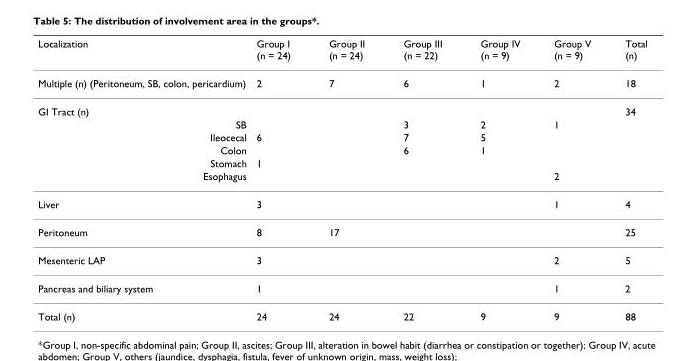table: (37, 37, 646, 321)
table column: (37, 37, 250, 321), (383, 37, 460, 321), (460, 37, 536, 321), (309, 37, 383, 321), (536, 37, 607, 321), (250, 37, 309, 321), (607, 37, 646, 321)
table column header: (37, 37, 646, 68)
table row: (37, 37, 646, 68), (37, 68, 646, 96), (37, 189, 646, 217), (37, 217, 646, 245), (37, 245, 646, 273), (37, 273, 646, 301), (37, 96, 646, 117), (37, 169, 646, 189), (37, 301, 646, 321), (37, 117, 646, 130), (37, 130, 646, 143), (37, 143, 646, 156), (37, 156, 646, 169)
